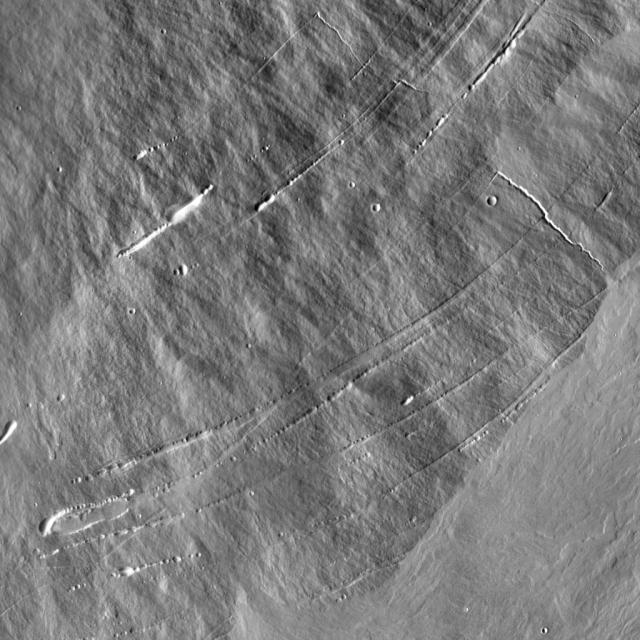crater: (491, 196, 501, 205), (183, 266, 192, 275), (374, 204, 382, 212), (126, 299, 133, 306)
